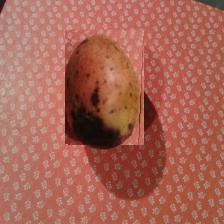Mango Semirotten: (66, 31, 145, 146)
